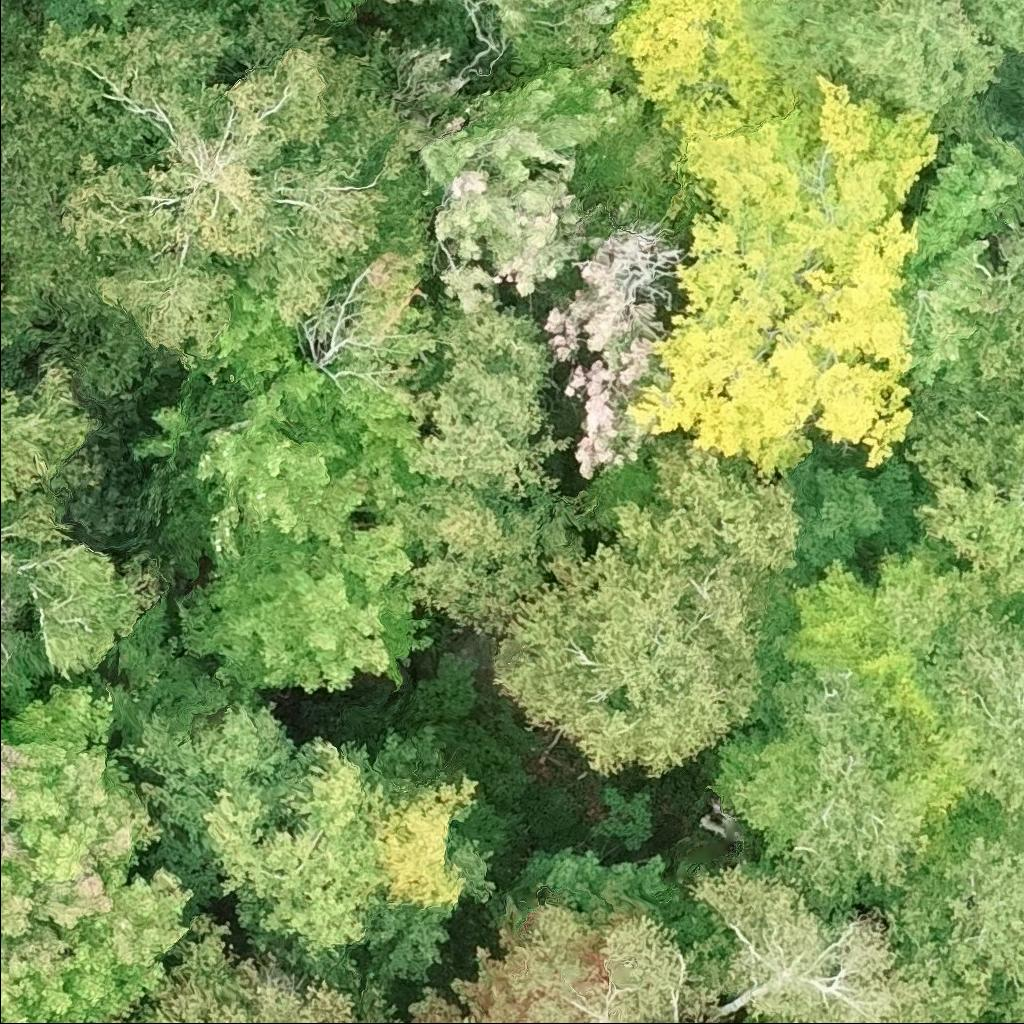crown: (129, 248, 437, 598), (490, 443, 800, 777), (108, 702, 388, 984), (0, 683, 195, 1023), (400, 296, 589, 635), (0, 354, 160, 680), (171, 515, 437, 692), (684, 859, 936, 1023), (770, 658, 917, 911), (108, 911, 400, 1023), (886, 793, 1023, 1023), (783, 546, 948, 735), (913, 568, 1023, 813), (405, 894, 609, 1023), (597, 916, 713, 1023), (510, 843, 670, 911), (549, 958, 648, 1023), (387, 1016, 407, 1023)
